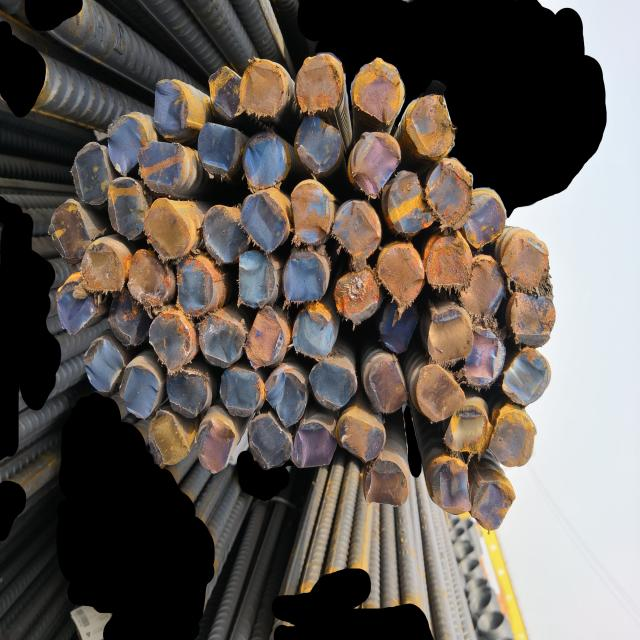Steel-Rod: (486, 402, 540, 468), (142, 194, 196, 259), (379, 237, 426, 311), (353, 54, 402, 124), (407, 91, 454, 161), (242, 128, 292, 193), (200, 202, 249, 268), (294, 114, 345, 177), (143, 309, 195, 370), (135, 135, 191, 190), (54, 274, 97, 344), (354, 126, 397, 196), (241, 189, 288, 253), (240, 59, 289, 119), (427, 165, 472, 230), (499, 349, 550, 406), (105, 105, 148, 172), (291, 180, 335, 245), (148, 410, 194, 472), (243, 409, 288, 472), (463, 321, 505, 388), (388, 167, 431, 232), (364, 453, 410, 513), (300, 49, 343, 113), (80, 238, 130, 293), (336, 268, 381, 328), (285, 247, 333, 303), (237, 248, 283, 306), (416, 363, 461, 422), (266, 367, 310, 427), (109, 174, 149, 240), (106, 289, 151, 347), (445, 398, 489, 457), (84, 332, 123, 398), (429, 235, 473, 293), (336, 200, 380, 258), (154, 76, 195, 138), (511, 279, 550, 344), (472, 476, 513, 537), (176, 259, 220, 315), (426, 306, 471, 360), (506, 236, 554, 286), (198, 314, 243, 367), (464, 253, 499, 321), (434, 457, 473, 518), (50, 203, 92, 259), (291, 303, 333, 359), (309, 364, 356, 414), (69, 148, 112, 202), (196, 416, 236, 474), (131, 248, 171, 306), (368, 354, 406, 414), (338, 411, 386, 458), (119, 359, 159, 414), (197, 122, 242, 169), (249, 306, 284, 365), (209, 65, 246, 120), (298, 418, 333, 476), (165, 371, 214, 412), (468, 189, 500, 247), (220, 371, 262, 415), (386, 308, 414, 354)
